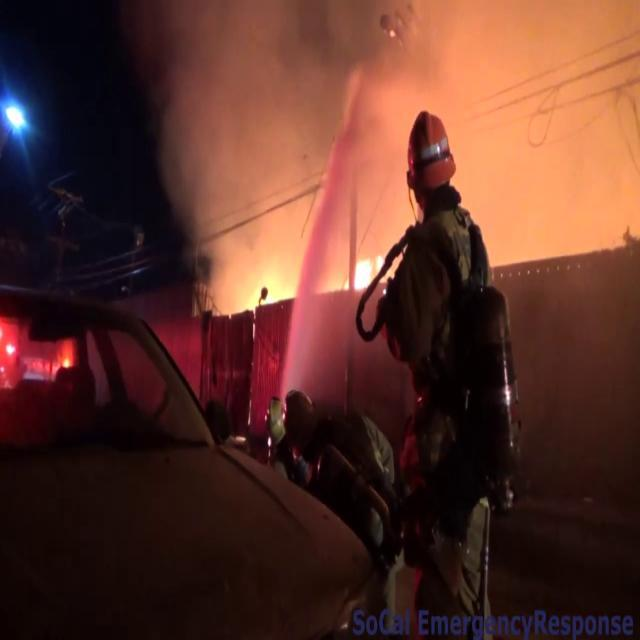Smoke: (142, 0, 634, 300)
